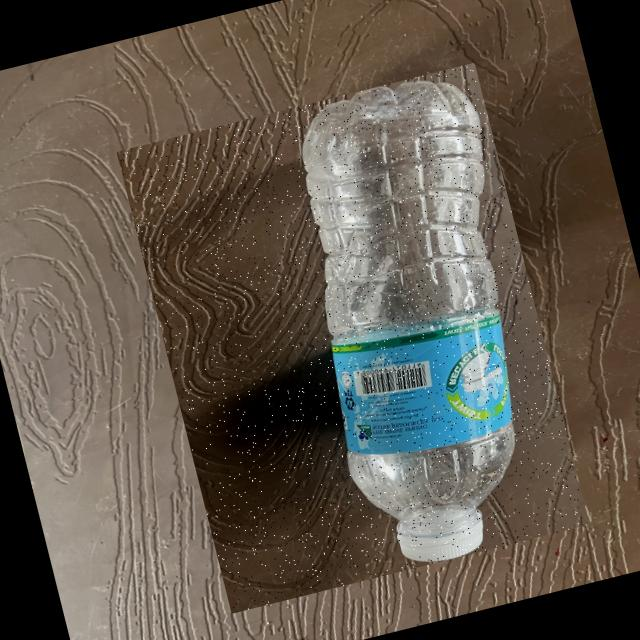REJECT: (116, 62, 589, 613)
